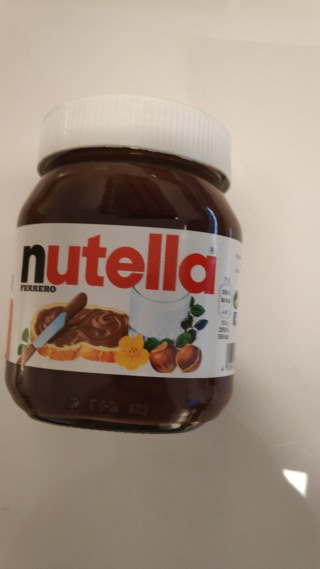nutella: (3, 91, 243, 434)
